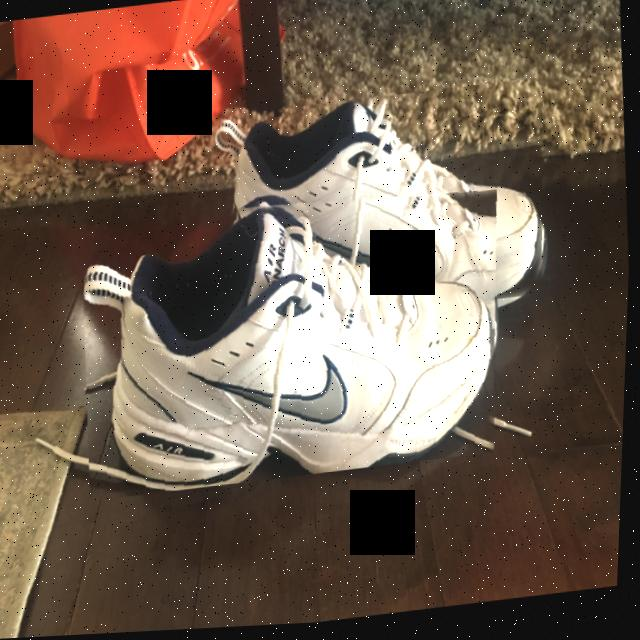shoe: (74, 173, 517, 502), (208, 82, 559, 347)
